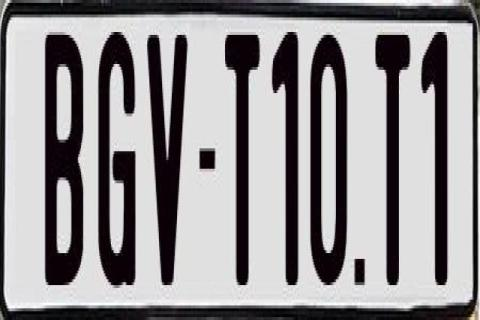0: (308, 29, 346, 294), (269, 32, 299, 291), (420, 27, 447, 280)
B: (44, 35, 84, 285)
G: (96, 27, 134, 286)
T: (376, 29, 414, 294), (223, 26, 260, 294)
V: (147, 29, 192, 297)
